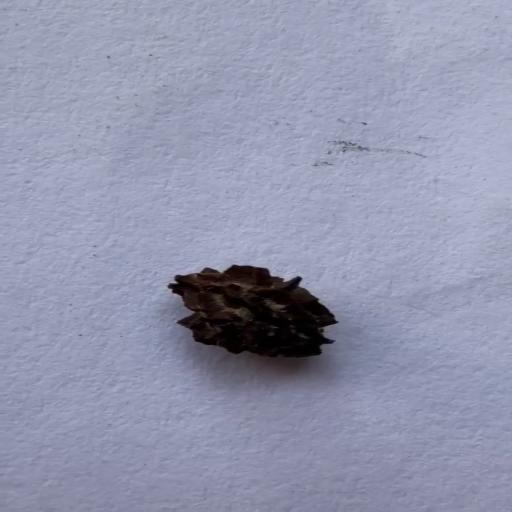papaya_seed: (164, 263, 342, 360)
